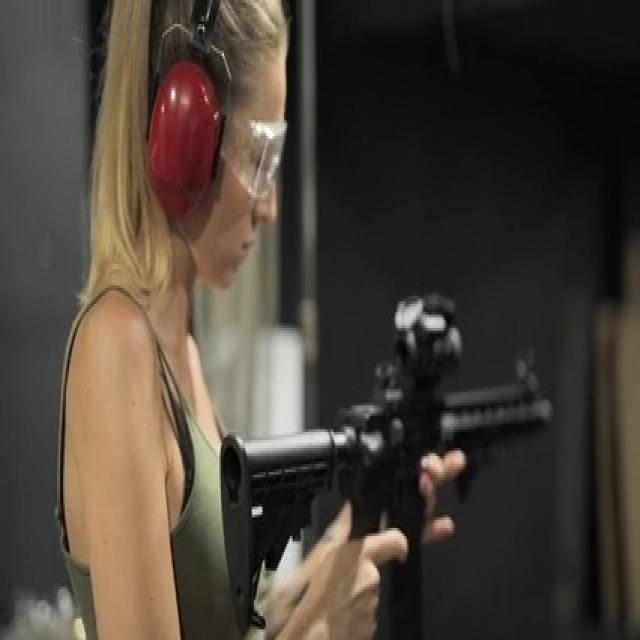Gun_Holder: (218, 287, 585, 640)
Person: (47, 0, 409, 640)
